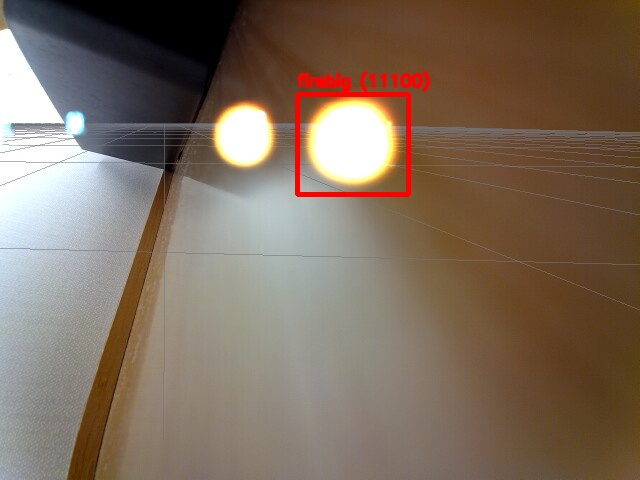firebig: (297, 94, 408, 194)
